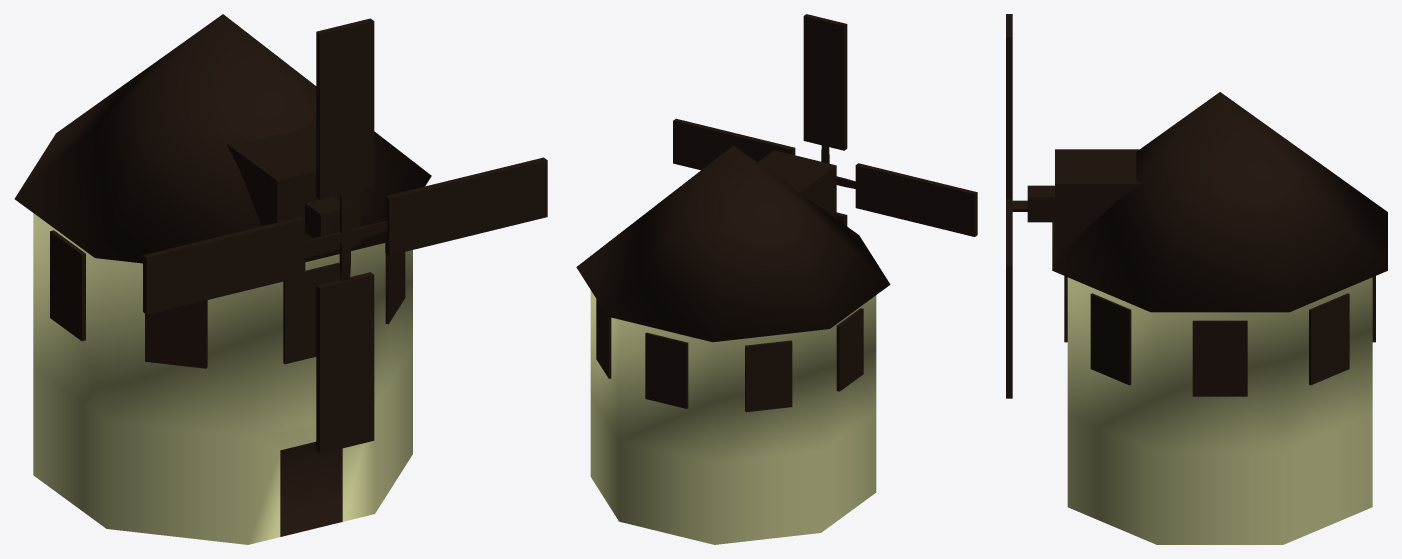
Rendered from Molino.glb.
3 views of the same model, side by side, from view 1: azimuth 30°, elevation 25°; view 2: azimuth 150°, elevation 25°; view 3: azimuth 270°, elevation 25° (orthographic). The views are drawn at different scales.
Visible parts, largest first — view 1: Molino-col, Elices-col; view 2: Molino-col, Elices-col; view 3: Molino-col, Elices-col.
Part boxes in pixels (box(x1,y1,x2,y2)): Molino-col: box(14, 14, 431, 544); Elices-col: box(143, 18, 547, 453); Molino-col: box(576, 145, 890, 544); Elices-col: box(673, 14, 977, 236); Molino-col: box(1027, 92, 1387, 544); Elices-col: box(1006, 14, 1027, 398).
Size of the model in its own units: 29.02 by 36.51 by 27.75.
Materials: 1 (1 with a texture image).
